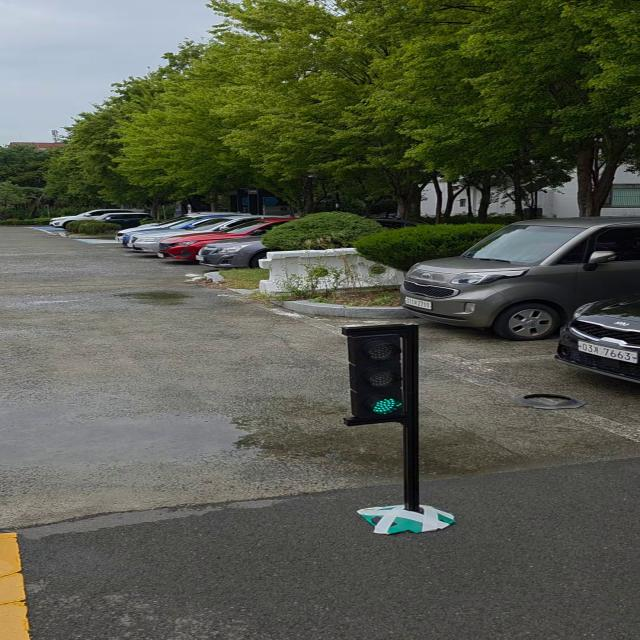green: (347, 328, 418, 424)
